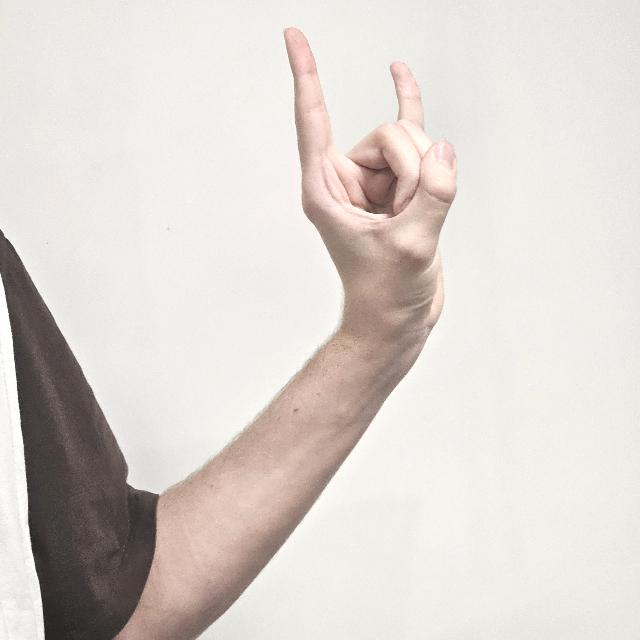L: (275, 22, 485, 342)
